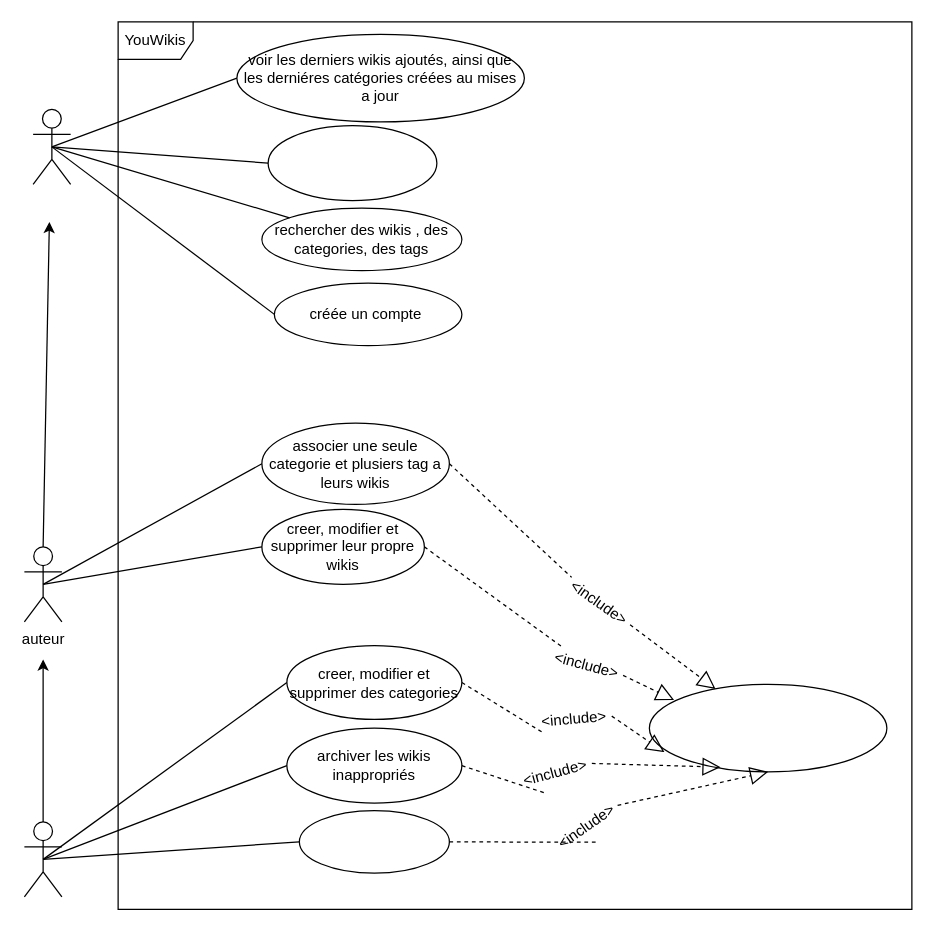
Some shapes in this 934 by 945 pixel diagram are drawn without their labels. Here are the shapes that lost their labels. From the top down, the centre of each, then its label:
At point 51,146: "visiteur".
At point 352,162: "voir les details d'un wiki".
At point 767,727: "authentification".
At point 42,859: "admin".
At point 373,841: "crééer, modifier et supprimer les tags".
